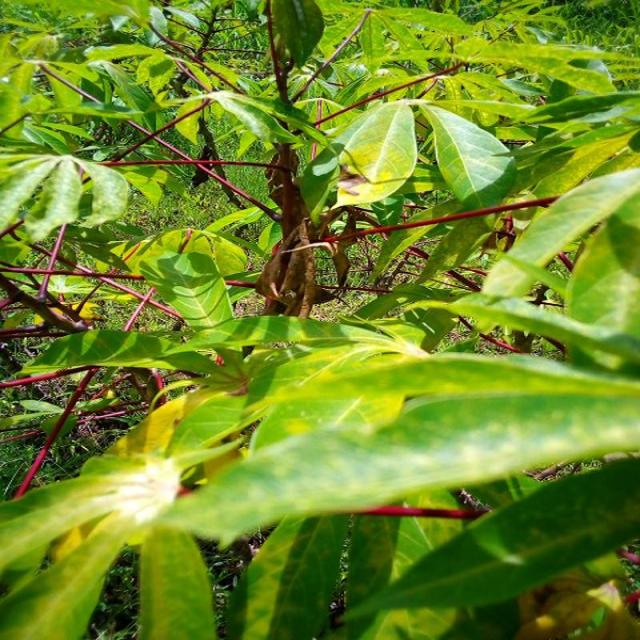cassava leaf: (1, 1, 638, 637), (153, 340, 638, 550)
